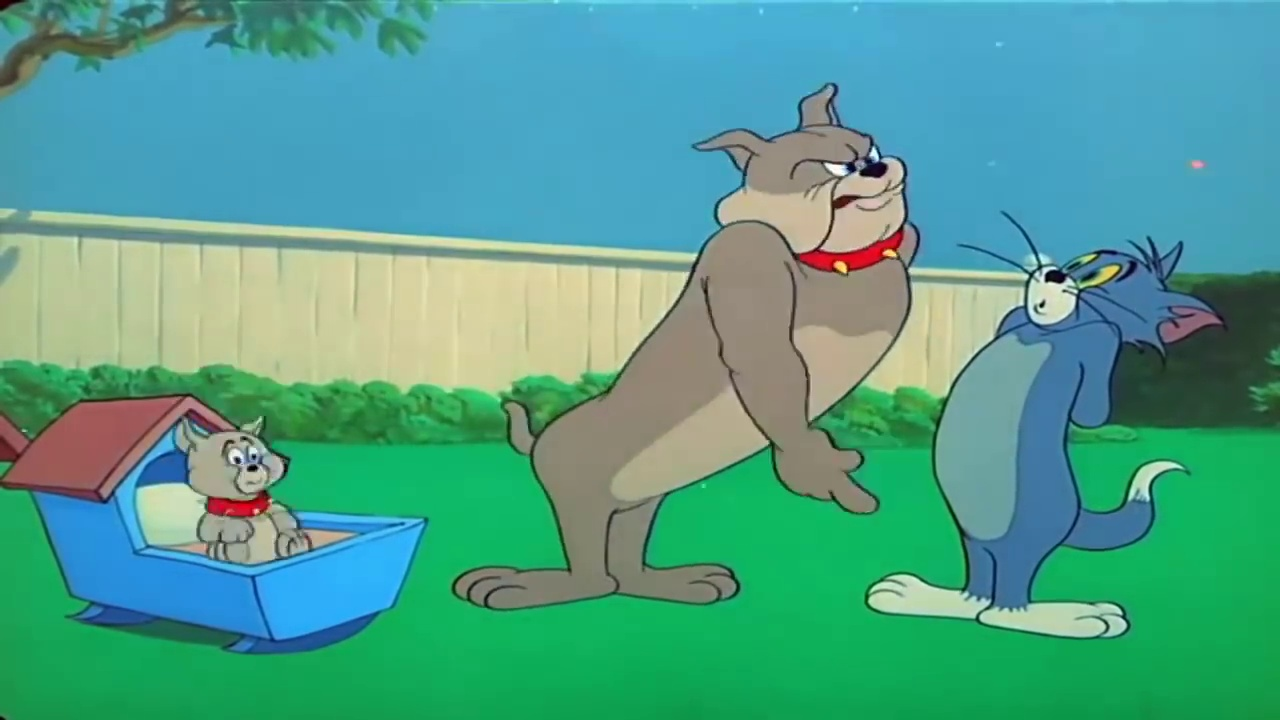spike: (686, 84, 915, 284)
tom: (1019, 241, 1226, 355)
